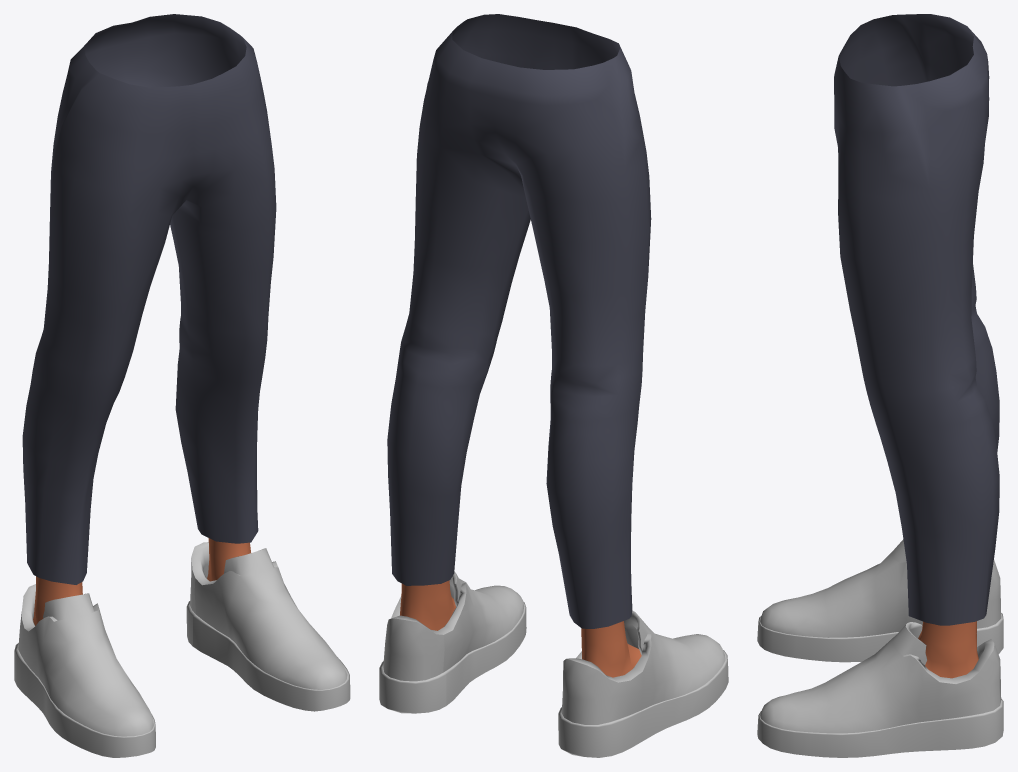
The model's file is man2_lowerBody.glb.
3 renders of one model, left to right at view 1: azimuth 30°, elevation 25°; view 2: azimuth 150°, elevation 25°; view 3: azimuth 270°, elevation 25°, orthographic. The views are drawn at different scales.
Visible parts, largest first — view 1: Wolf3D_Outfit_Bottom.001, Wolf3D_Outfit_Footwear.001, Wolf3D_Body.004, Wolf3D_Body.001; view 2: Wolf3D_Outfit_Bottom.001, Wolf3D_Outfit_Footwear.001, Wolf3D_Body.002, Wolf3D_Body.005, Wolf3D_Body.004; view 3: Wolf3D_Outfit_Bottom.001, Wolf3D_Outfit_Footwear.001, Wolf3D_Body.005, Wolf3D_Body.004.
Part boxes in pixels (bbox=[...]): Wolf3D_Outfit_Bottom.001: bbox=[22, 14, 276, 584]; Wolf3D_Outfit_Footwear.001: bbox=[14, 542, 350, 757]; Wolf3D_Body.004: bbox=[208, 538, 250, 580]; Wolf3D_Body.001: bbox=[35, 578, 82, 623]; Wolf3D_Outfit_Bottom.001: bbox=[387, 14, 651, 628]; Wolf3D_Outfit_Footwear.001: bbox=[379, 571, 728, 757]; Wolf3D_Body.002: bbox=[581, 622, 625, 677]; Wolf3D_Body.005: bbox=[400, 583, 435, 630]; Wolf3D_Body.004: bbox=[434, 580, 454, 630]; Wolf3D_Outfit_Bottom.001: bbox=[834, 14, 999, 625]; Wolf3D_Outfit_Footwear.001: bbox=[757, 539, 1003, 757]; Wolf3D_Body.005: bbox=[949, 621, 978, 677]; Wolf3D_Body.004: bbox=[918, 621, 951, 677].
Size of the model in its own units: 4.59 by 10.39 by 3.59.
